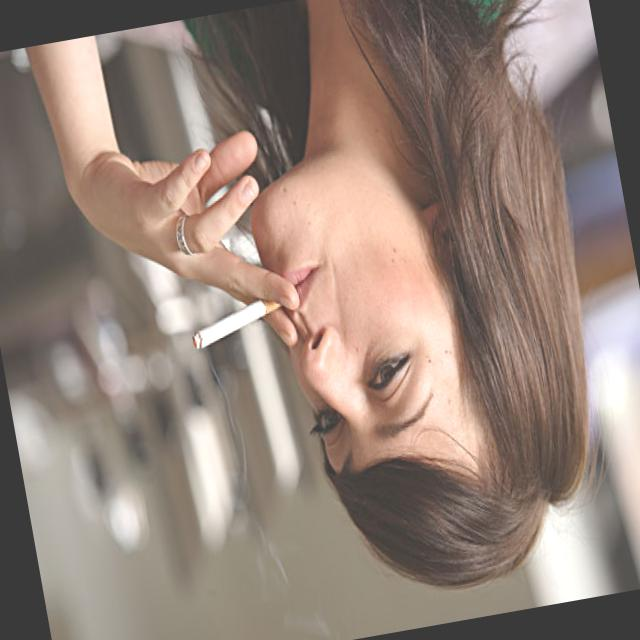cigarette: (186, 298, 269, 354)
